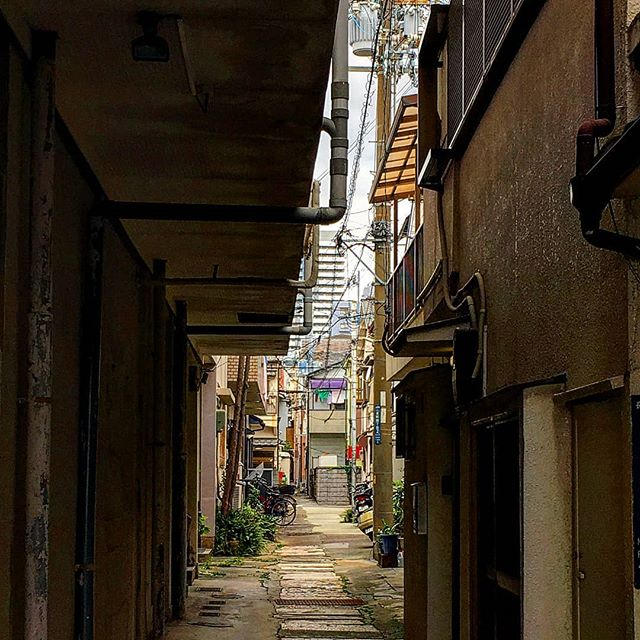building: (1, 1, 271, 640), (385, 1, 640, 640)
